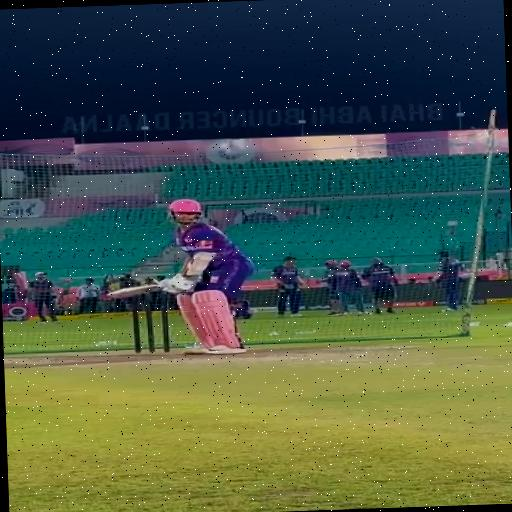Cricket bat: (108, 283, 160, 296)
